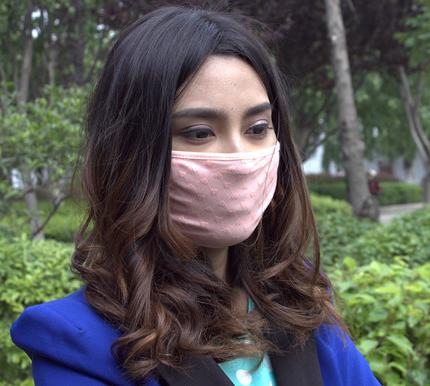OK: (163, 99, 278, 238)
